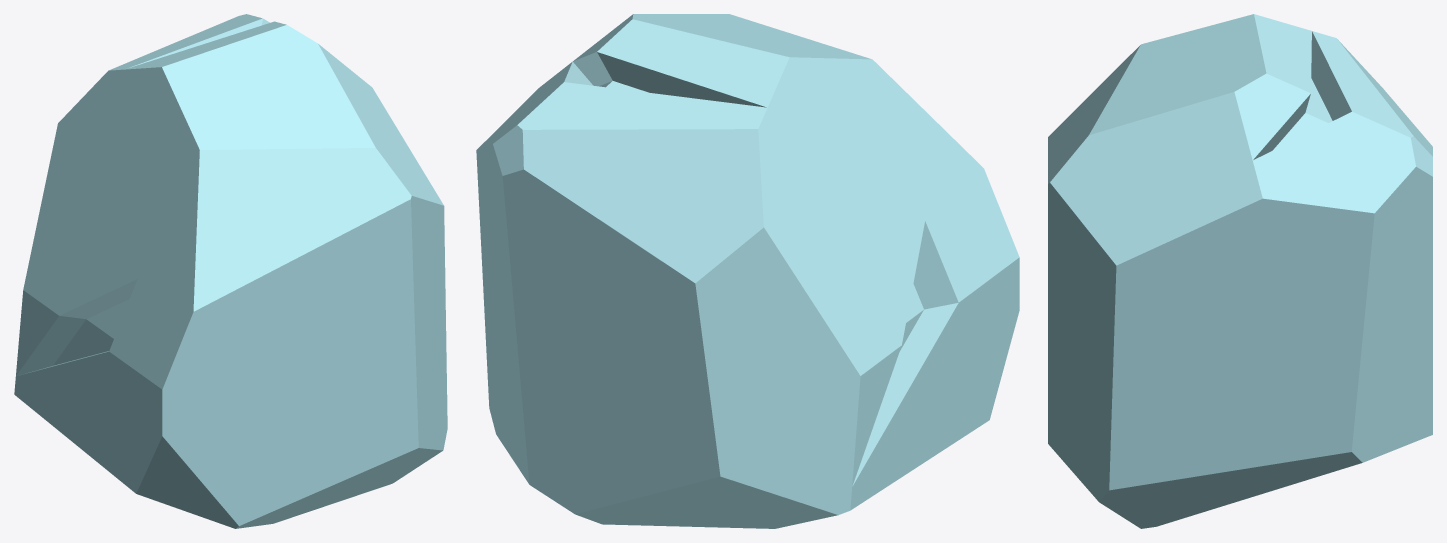
The model's file is Stone 17.fbx.
3 views of the same model, side by side, from view 1: azimuth 30°, elevation 25°; view 2: azimuth 150°, elevation 25°; view 3: azimuth 270°, elevation 25° (orthographic). The views are drawn at different scales.
Parts seen in each view (by area): view 1: Stone 17; view 2: Stone 17; view 3: Stone 17.
Boxes of the visible parts, x1,y1,x2,y2 form: Stone 17: (14, 14, 447, 528); Stone 17: (476, 14, 1019, 528); Stone 17: (1048, 14, 1432, 528).
Bounding box in the file's own units: 114 × 147 × 118.
